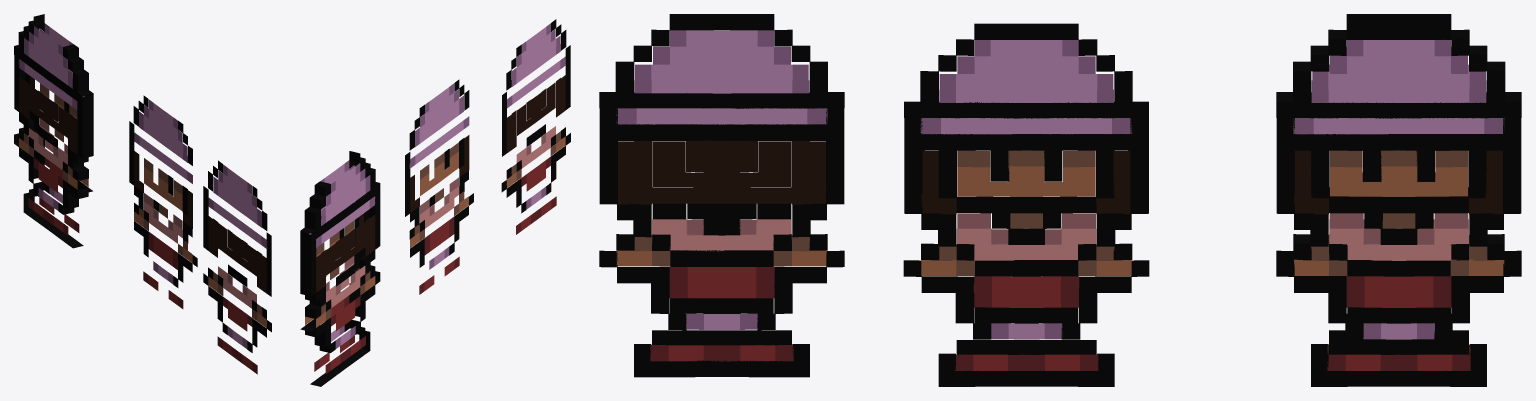
File: Melissa 1.fbx
The picture shows the model from 3 angles, left to right: view 1: azimuth 30°, elevation 25°; view 2: azimuth 150°, elevation 25°; view 3: azimuth 270°, elevation 25°; orthographic projection. The views are drawn at different scales.
Parts seen in each view (by area): view 1: Main body, Plane.001, Plane; view 2: Main body, Plane.001, Plane; view 3: Main body, Plane.001, Plane.
Boxes of the visible parts, x1,y1,x2,y2 form: Main body: (14,14,93,248); Plane.001: (203,160,271,374); Plane: (129,95,197,308); Main body: (300,151,380,386); Plane.001: (501,19,570,234); Plane: (405,79,473,294); Main body: (1276,14,1521,386); Plane.001: (599,14,844,377); Plane: (903,23,1149,386).
Bounding box in the file's own units: 27.07 × 480 × 1104.
